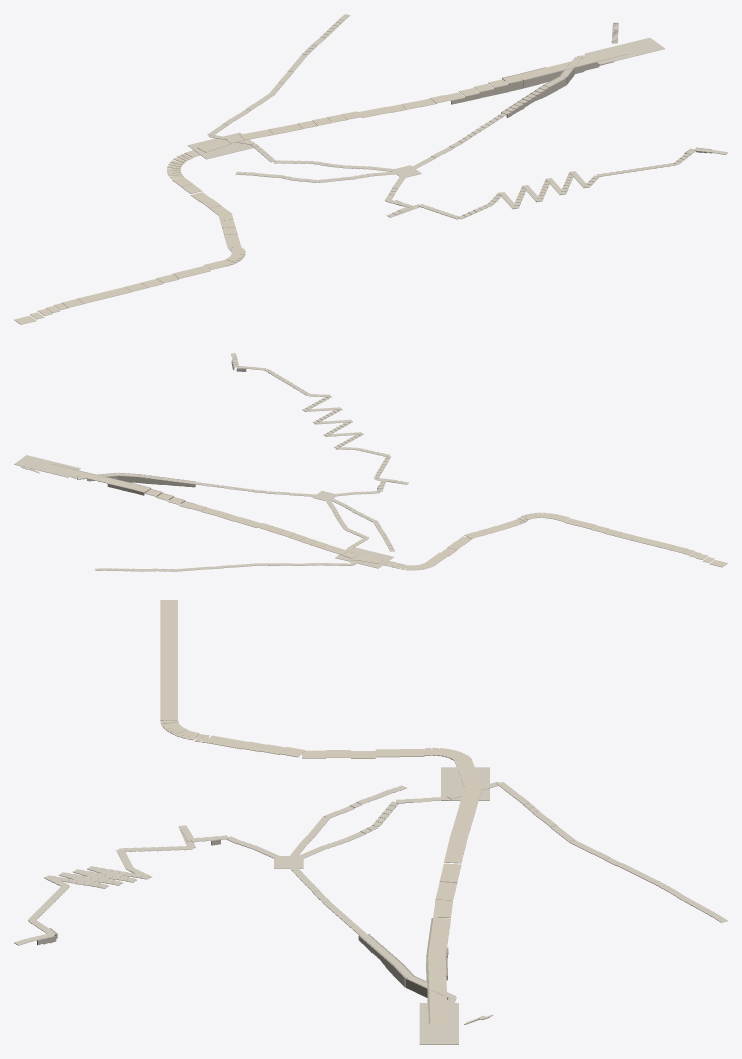
Rendered from site-grounds.lod2.glb.
3 renders of one model, top to bottom at view 1: azimuth 30°, elevation 25°; view 2: azimuth 150°, elevation 25°; view 3: azimuth 270°, elevation 25°, orthographic. The views are drawn at different scales.
Size of the model in its own units: 227 by 15.56 by 145.
